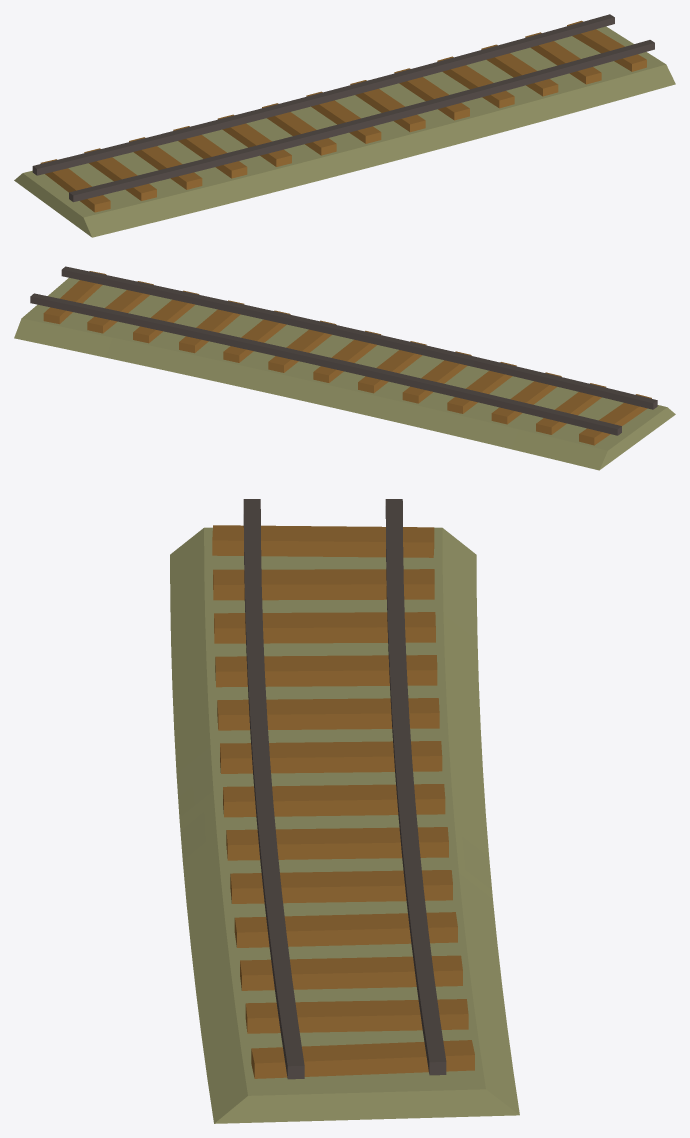
The model's file is SM_Via_CurvaR240_v1_Madera_LOD1.fbx.
3 renders of one model, top to bottom at view 1: azimuth 30°, elevation 25°; view 2: azimuth 150°, elevation 25°; view 3: azimuth 270°, elevation 25°, orthographic. The views are drawn at different scales.
Visible parts, largest first — view 1: SM_via_trazado_v21_LOD1; view 2: SM_via_trazado_v21_LOD1; view 3: SM_via_trazado_v21_LOD1.
Part boxes in pixels (x1=…): SM_via_trazado_v21_LOD1: x1=14, y1=14, x2=675, y2=237; SM_via_trazado_v21_LOD1: x1=14, y1=266, x2=675, y2=470; SM_via_trazado_v21_LOD1: x1=170, y1=499, x2=519, y2=1123.
Bounding box in the file's own units: 15.81 × 0.72 × 4.11.
